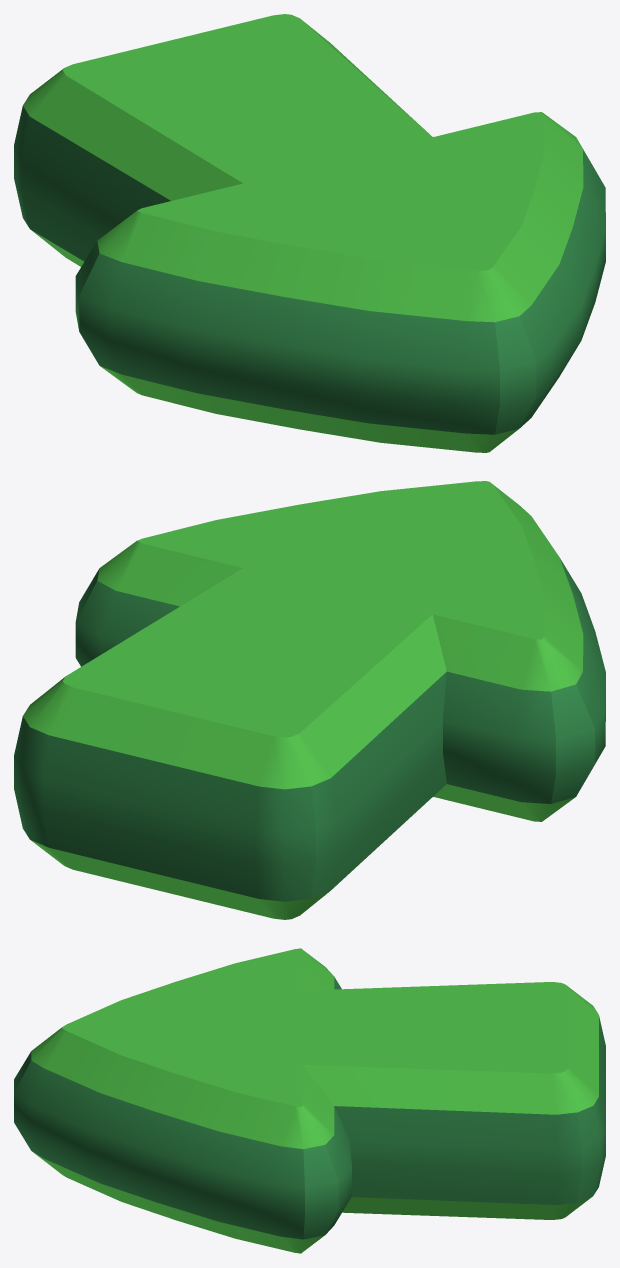
The model's file is Arrow.fbx.
3 views of the same model, one above another, from view 1: azimuth 30°, elevation 25°; view 2: azimuth 150°, elevation 25°; view 3: azimuth 270°, elevation 25° (orthographic). The views are drawn at different scales.
Visible parts, largest first — view 1: pCube1; view 2: pCube1; view 3: pCube1.
Part boxes in pixels (x1,y1,x2,y2): pCube1: (14,14,605,452); pCube1: (14,481,605,919); pCube1: (14,948,605,1253).
Size of the model in its own units: 80.16 by 27.1 by 99.22.
